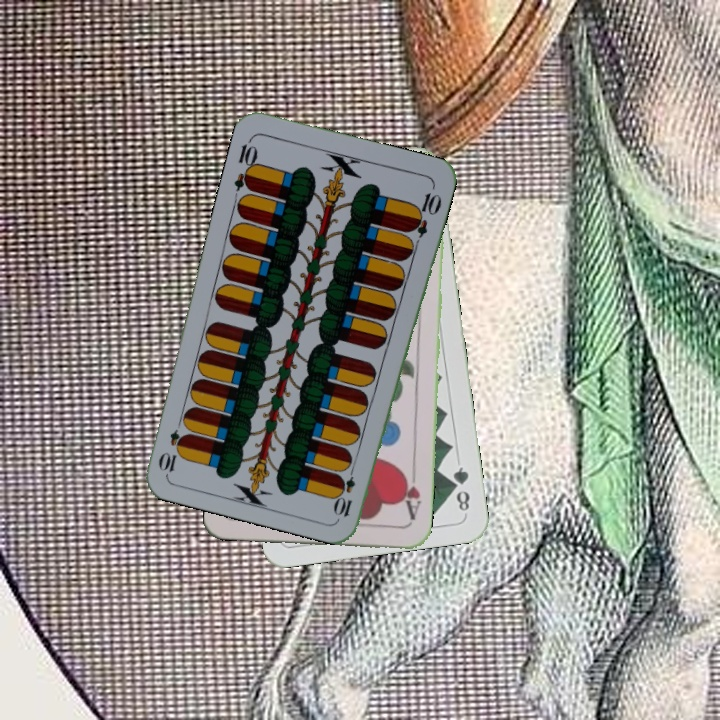E10: (230, 134, 261, 193), (333, 460, 359, 519)
G8: (448, 463, 473, 514)
HA: (398, 466, 424, 526)
